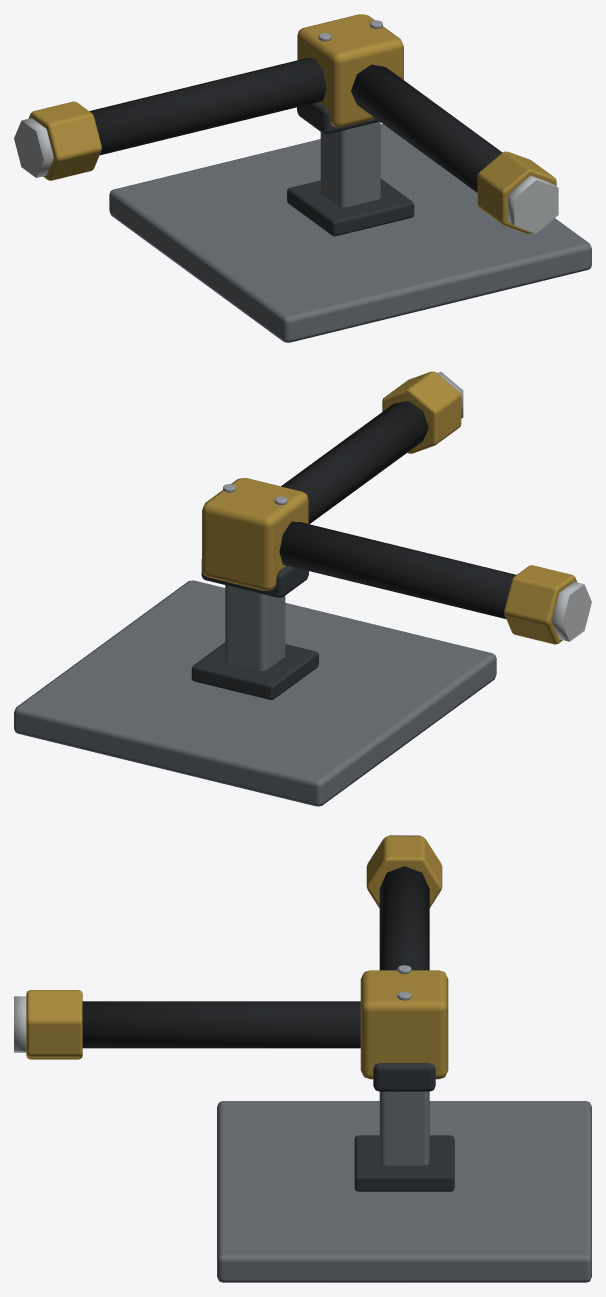
The model's file is pp_corner.glb.
3 renders of one model, top to bottom at view 1: azimuth 30°, elevation 25°; view 2: azimuth 150°, elevation 25°; view 3: azimuth 270°, elevation 25°, orthographic. The views are drawn at different scales.
Parts seen in each view (by area): view 1: block.001, cyl.001, cyl.004, block, block.002, block.004, cyl.002, cyl.005, cyl, cyl.003, block.003; view 2: block.001, cyl.001, block, cyl.004, block.002, block.004, cyl.002, cyl.005, cyl.003, block.003; view 3: block.001, cyl.004, block, cyl.001, block.004, cyl.005, block.002, cyl.002, block.003, cyl.
Part boxes in pixels (box(x1,y1,x2,y2)): block.001: box(109, 124, 591, 342); cyl.001: box(89, 58, 326, 155); cyl.004: box(351, 64, 502, 192); block: box(297, 14, 403, 127); block.002: box(320, 121, 380, 207); block.004: box(287, 178, 414, 236); cyl.002: box(28, 101, 101, 180); cyl.005: box(477, 151, 556, 233); cyl: box(508, 175, 558, 233); cyl.003: box(14, 118, 53, 177); block.003: box(297, 102, 379, 133); block.001: box(14, 580, 496, 806); cyl.001: box(279, 521, 516, 618); block: box(202, 478, 308, 590); cyl.004: box(281, 401, 428, 524); block.002: box(225, 585, 285, 670); block.004: box(191, 642, 318, 699); cyl.002: box(504, 565, 577, 644); cyl.005: box(382, 371, 461, 453); cyl.003: box(552, 582, 591, 641); block.003: box(201, 559, 308, 597); block.001: box(217, 1101, 591, 1282); cyl.004: box(82, 1001, 360, 1048); block: box(360, 970, 448, 1079); cyl.001: box(379, 866, 429, 970); block.004: box(354, 1135, 454, 1191); cyl.005: box(26, 990, 82, 1059); block.002: box(379, 1091, 429, 1165); cyl.002: box(366, 836, 442, 908); block.003: box(373, 1063, 435, 1091); cyl: box(14, 996, 26, 1052).
Size of the model in its own units: 0.925 by 0.398 by 0.925.
